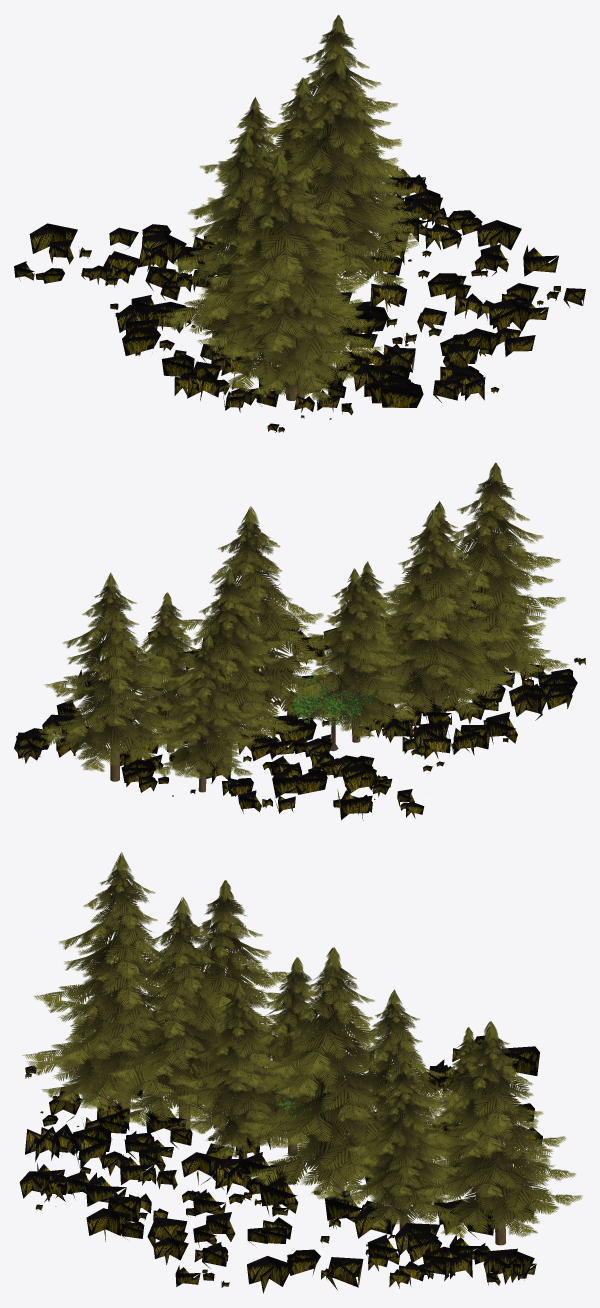
3 renders of one model, top to bottom at view 1: azimuth 30°, elevation 25°; view 2: azimuth 150°, elevation 25°; view 3: azimuth 270°, elevation 25°, orthographic. The views are drawn at different scales.
Parts seen in each view (by area): view 1: Low Poly Stylized 2D Grass.2258; view 2: Low Poly Stylized 2D Grass.2258; view 3: Low Poly Stylized 2D Grass.2258.
Part boxes in pixels (<box>): Low Poly Stylized 2D Grass.2258: <box>14,15,585,432</box>; Low Poly Stylized 2D Grass.2258: <box>14,462,585,820</box>; Low Poly Stylized 2D Grass.2258: <box>19,852,582,1293</box>.
Size of the model in its own units: 25.69 by 14.49 by 27.23.
Materials: 5 (4 with a texture image).
